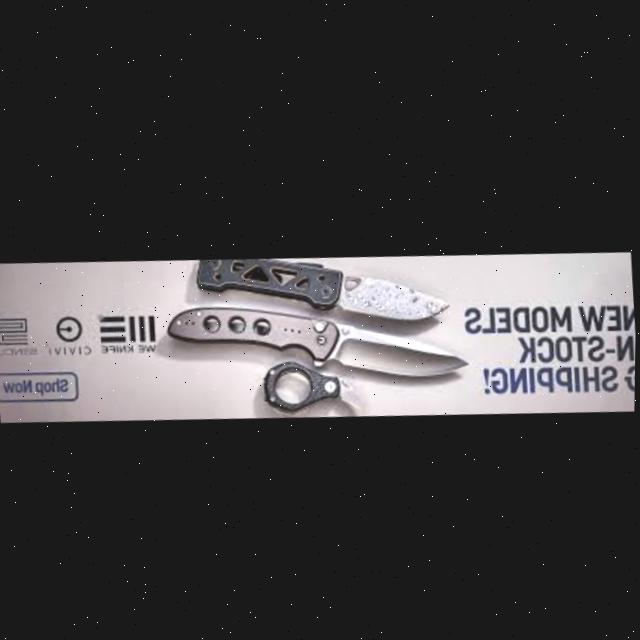knife: (167, 283, 472, 389), (196, 240, 453, 330)
